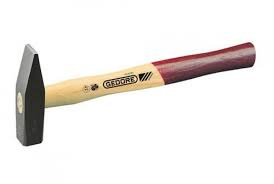hammer: (14, 43, 256, 147)
